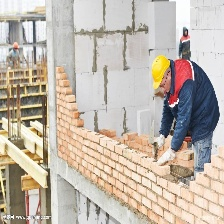helmet: (151, 54, 172, 91)
no-vest: (172, 59, 217, 133)
person: (150, 54, 221, 171)
